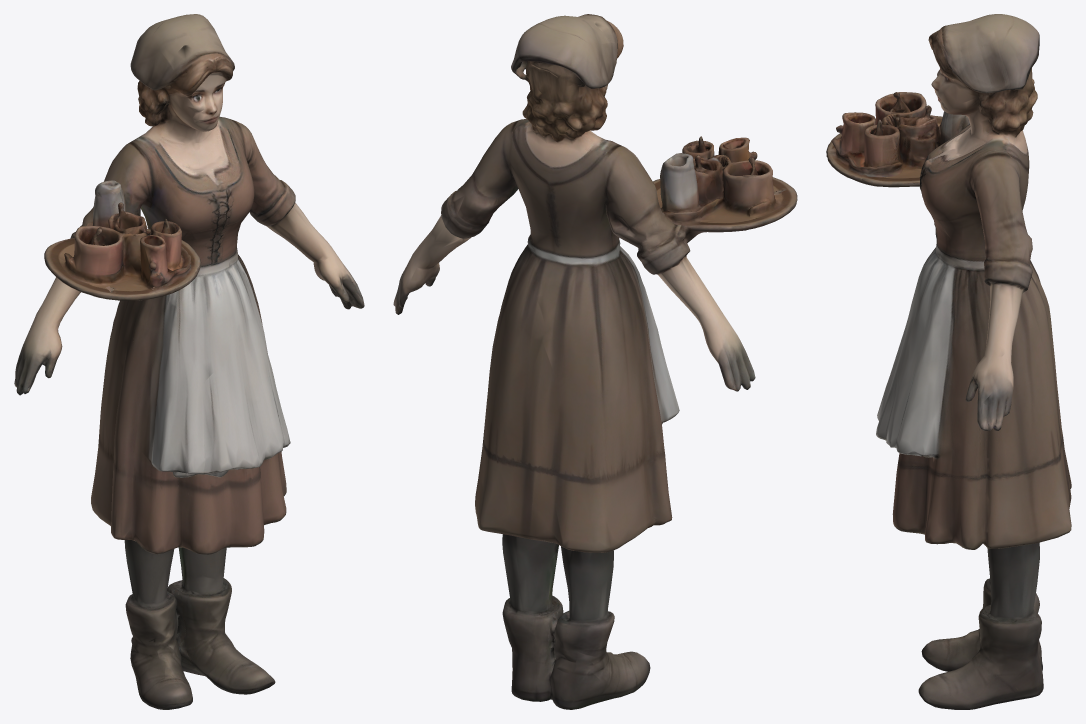
The model's file is waitress.glb.
3 renders of one model, left to right at view 1: azimuth 30°, elevation 25°; view 2: azimuth 150°, elevation 25°; view 3: azimuth 270°, elevation 25°, orthographic.
Bounding box in the file's own units: 1.11 × 2 × 0.6705.
1 material, 1 textured.
